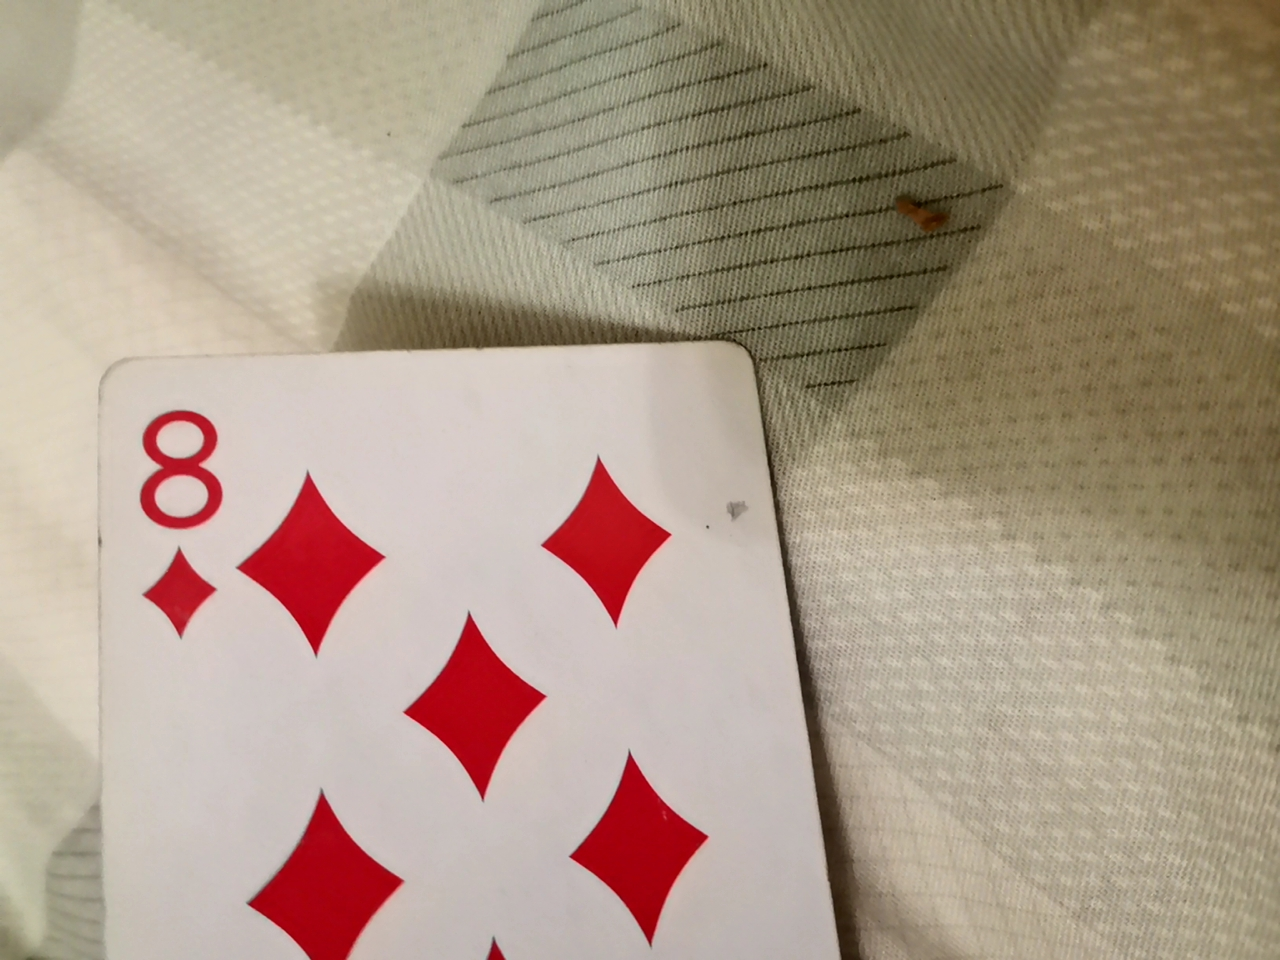fk 8: (72, 332, 865, 960)
